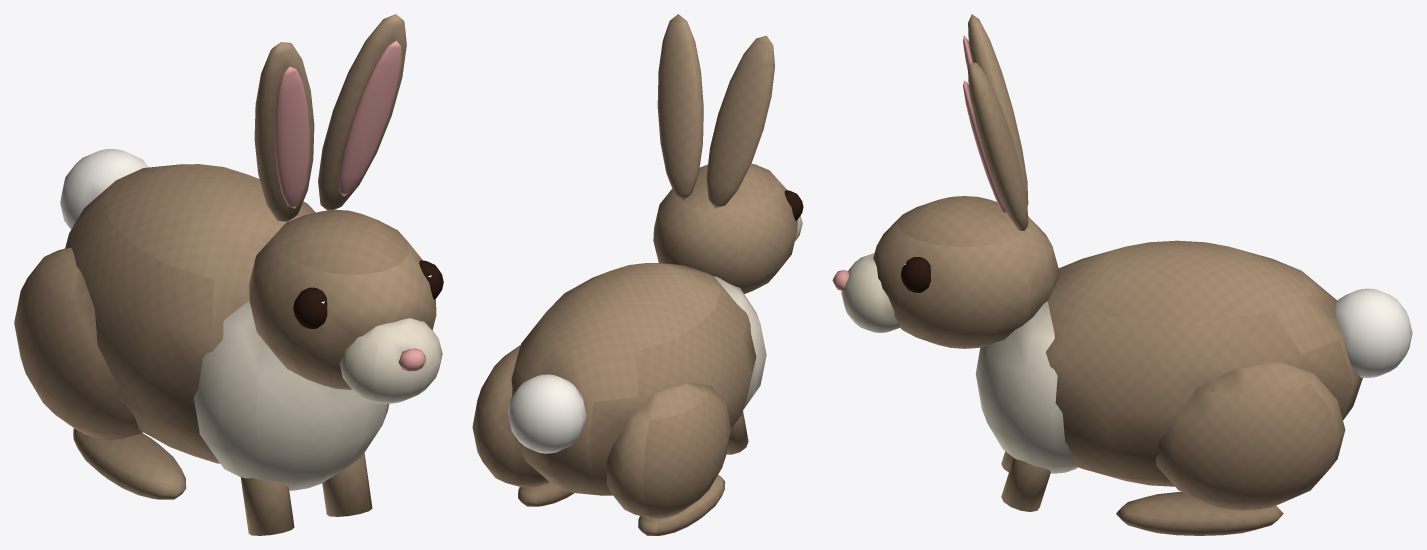
The model's file is rabbit.glb.
3 renders of one model, left to right at view 1: azimuth 30°, elevation 25°; view 2: azimuth 150°, elevation 25°; view 3: azimuth 270°, elevation 25°, orthographic. The views are drawn at different scales.
Visible parts, largest first — view 1: rabbit_mesh, head_mesh, earL_mesh, earR_mesh, legsB_mesh; view 2: rabbit_mesh, head_mesh, earR_mesh, earL_mesh, legsB_mesh; view 3: rabbit_mesh, head_mesh, earL_mesh, legsB_mesh, earR_mesh.
Boxes of the visible parts, left/top/right/bottom form: rabbit_mesh: left=14, top=149, right=389, bottom=535; head_mesh: left=249, top=209, right=443, bottom=403; earL_mesh: left=318, top=14, right=406, bottom=210; earR_mesh: left=254, top=42, right=314, bottom=221; legsB_mesh: left=73, top=428, right=186, bottom=499; rabbit_mesh: left=472, top=263, right=766, bottom=518; head_mesh: left=653, top=163, right=803, bottom=293; earR_mesh: left=706, top=35, right=774, bottom=208; earL_mesh: left=657, top=14, right=703, bottom=200; legsB_mesh: left=518, top=475, right=725, bottom=535; rabbit_mesh: left=976, top=240, right=1412, bottom=511; head_mesh: left=832, top=196, right=1059, bottom=348; earL_mesh: left=963, top=62, right=1028, bottom=230; legsB_mesh: left=1116, top=492, right=1283, bottom=535; earR_mesh: left=963, top=14, right=1028, bottom=205.
Bounding box in the file's own units: 0.26 × 0.4536 × 0.518.
Materials: 6 (2 with a texture image).
